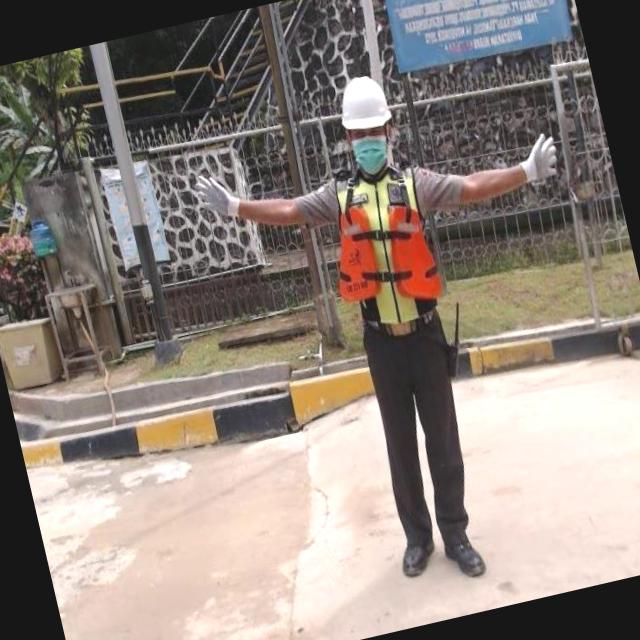boots: (385, 518, 444, 583), (433, 525, 489, 586)
gloves: (514, 130, 566, 188), (190, 172, 240, 223)
vest: (307, 156, 459, 337)
